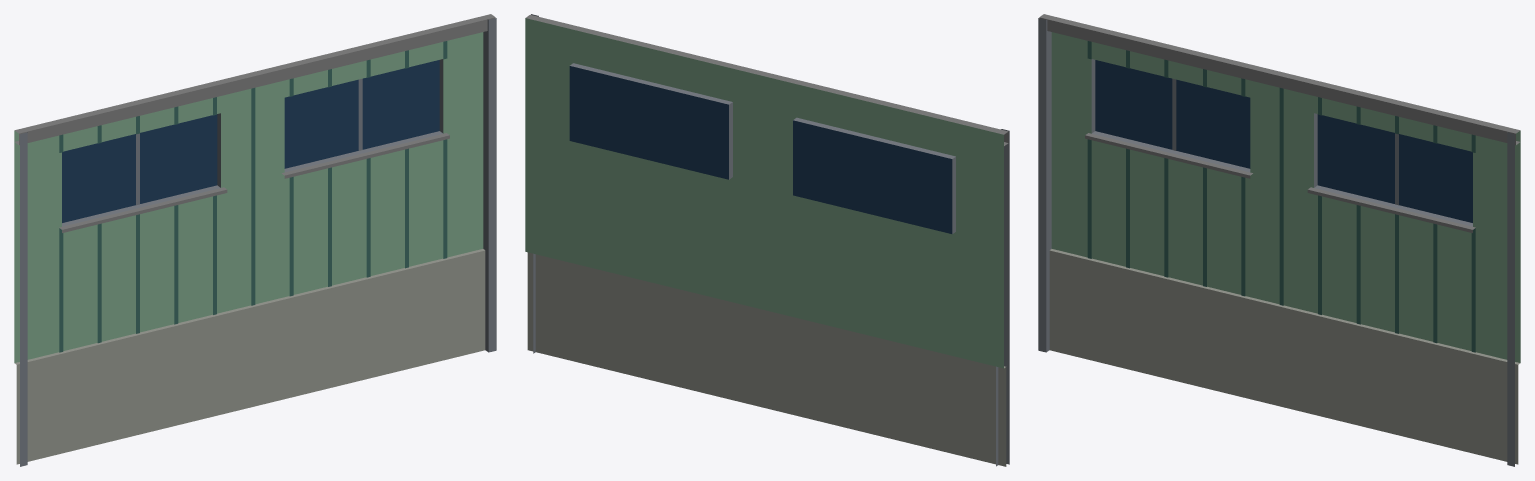
The picture shows the model from 3 angles, left to right: view 1: azimuth 30°, elevation 25°; view 2: azimuth 150°, elevation 25°; view 3: azimuth 330°, elevation 25°; orthographic projection.
Visible parts, largest first — view 1: a2013/500/base-w1; view 2: a2013/500/base-w1; view 3: a2013/500/base-w1.
Part boxes in pixels (x1,y1,x2,y2): a2013/500/base-w1: (14, 14, 496, 466); a2013/500/base-w1: (525, 14, 1009, 466); a2013/500/base-w1: (1038, 14, 1520, 466).
Size of the model in its own units: 6 by 4 by 0.2.
